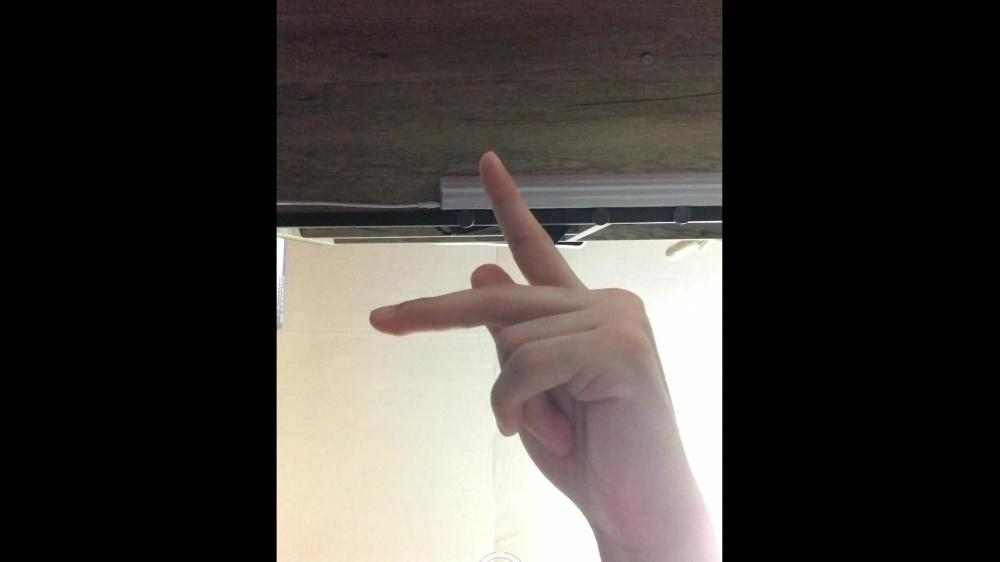k: (370, 148, 679, 508)
